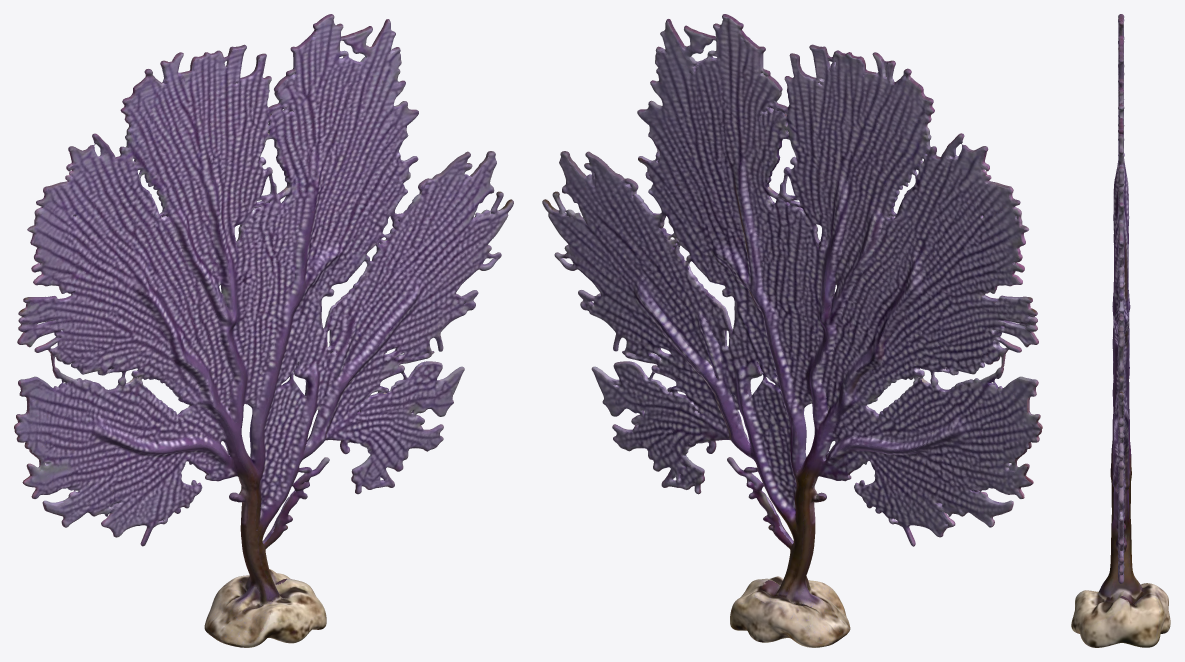
The model's file is item_pearl.glb.
3 renders of one model, left to right at view 1: azimuth 30°, elevation 25°; view 2: azimuth 150°, elevation 25°; view 3: azimuth 270°, elevation 25°, orthographic. The views are drawn at different scales.
Parts seen in each view (by area): view 1: geometry_0; view 2: geometry_0; view 3: geometry_0.
Boxes of the visible parts, left/top/right/bottom form: geometry_0: left=14, top=14, right=513, bottom=647; geometry_0: left=542, top=14, right=1042, bottom=647; geometry_0: left=1071, top=14, right=1170, bottom=647.
Bounding box in the file's own units: 0.4547 × 0.52 × 0.0821.
Materials: 1 (1 with a texture image).
